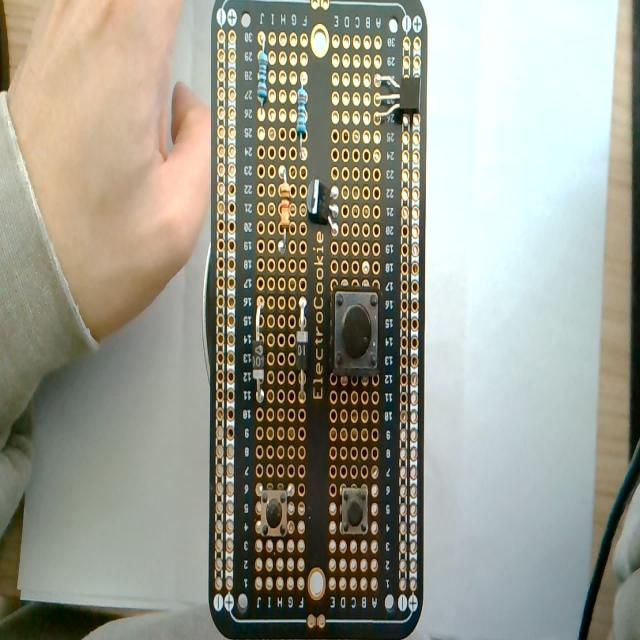diode: (251, 297, 271, 414), (293, 300, 311, 406)
resistor: (274, 166, 290, 256), (255, 34, 271, 122), (294, 76, 312, 150)
switch: (329, 288, 378, 378), (257, 483, 294, 544), (338, 483, 372, 543)
transistor: (372, 64, 422, 131), (304, 171, 344, 247)
